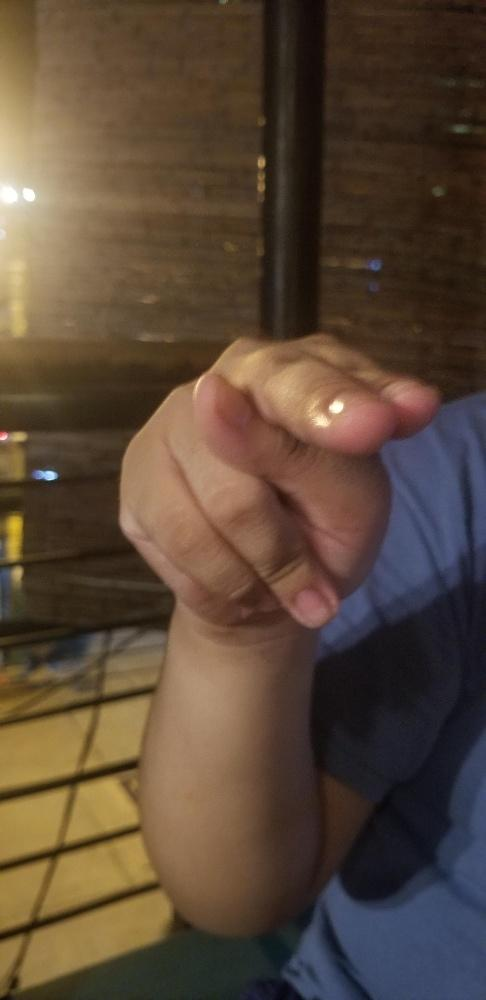n: (115, 329, 445, 631)
